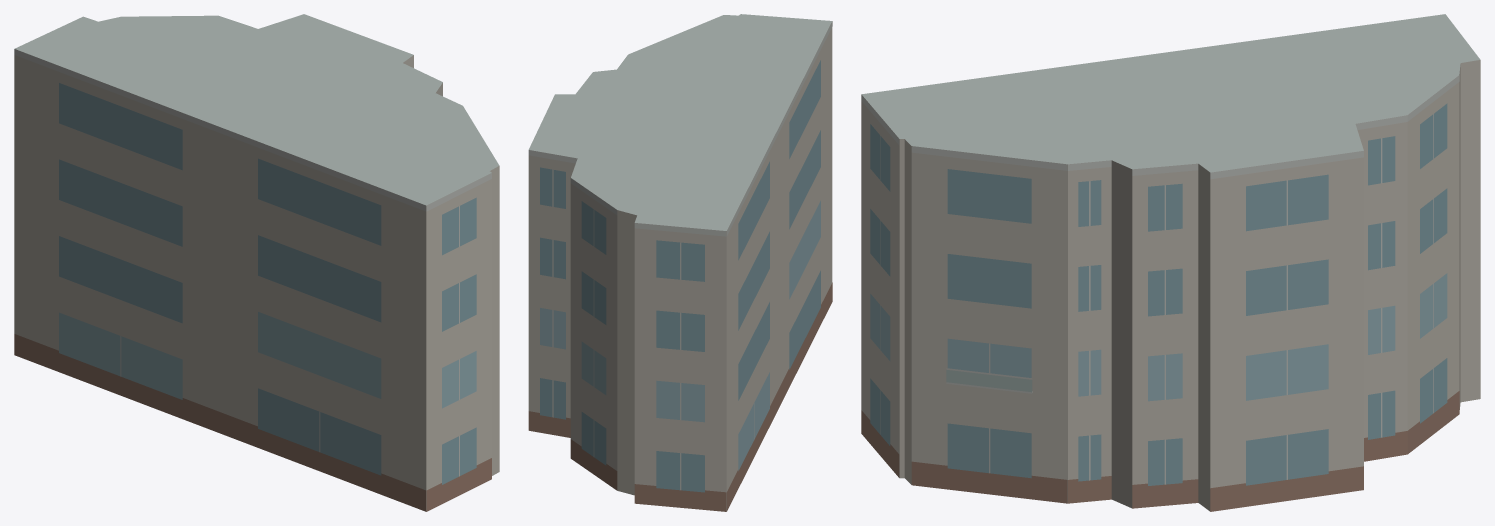
Rendered from survey-upis-32916370.glb.
3 views of the same model, side by side, from view 1: azimuth 30°, elevation 25°; view 2: azimuth 150°, elevation 25°; view 3: azimuth 270°, elevation 25° (orthographic). The views are drawn at different scales.
Visible parts, largest first — view 1: survey-upis-32916370.tmp; view 2: survey-upis-32916370.tmp; view 3: survey-upis-32916370.tmp.
Part boxes in pixels (x1,y1,x2,y2): survey-upis-32916370.tmp: [14, 14, 499, 511]; survey-upis-32916370.tmp: [528, 14, 832, 511]; survey-upis-32916370.tmp: [861, 14, 1480, 511].
Bounding box in the file's own units: 12.44 × 12.4 × 20.52.
